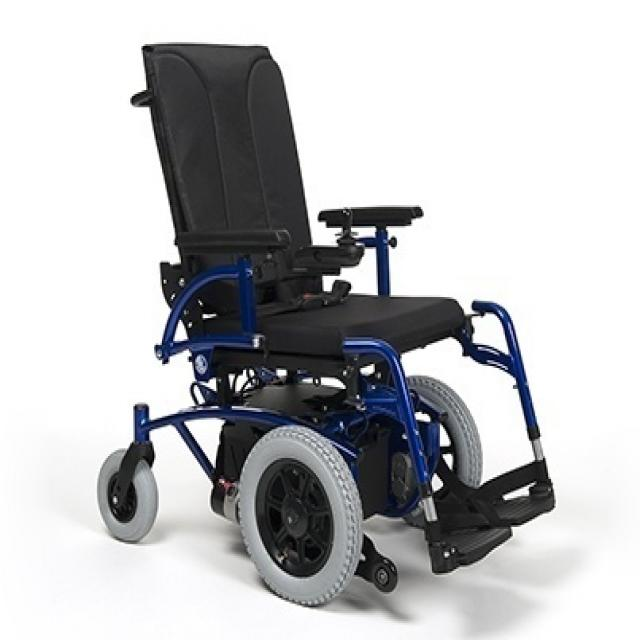wheelchair: (91, 32, 567, 626)
